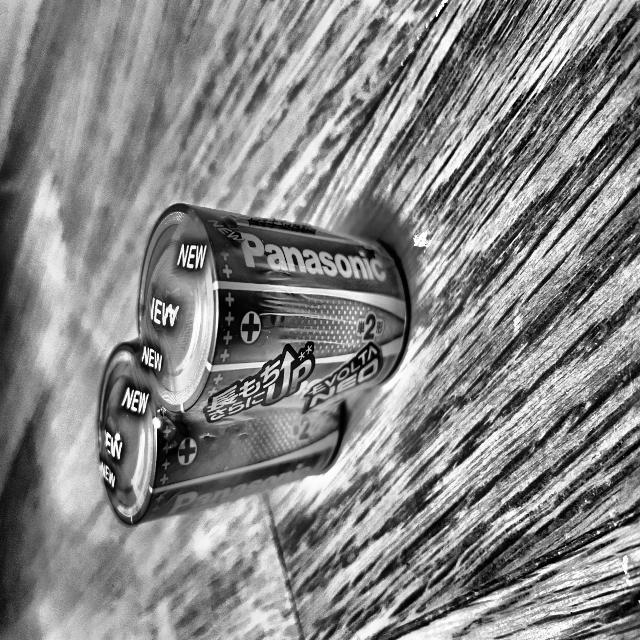drycell: (130, 196, 414, 404), (89, 320, 348, 537)
